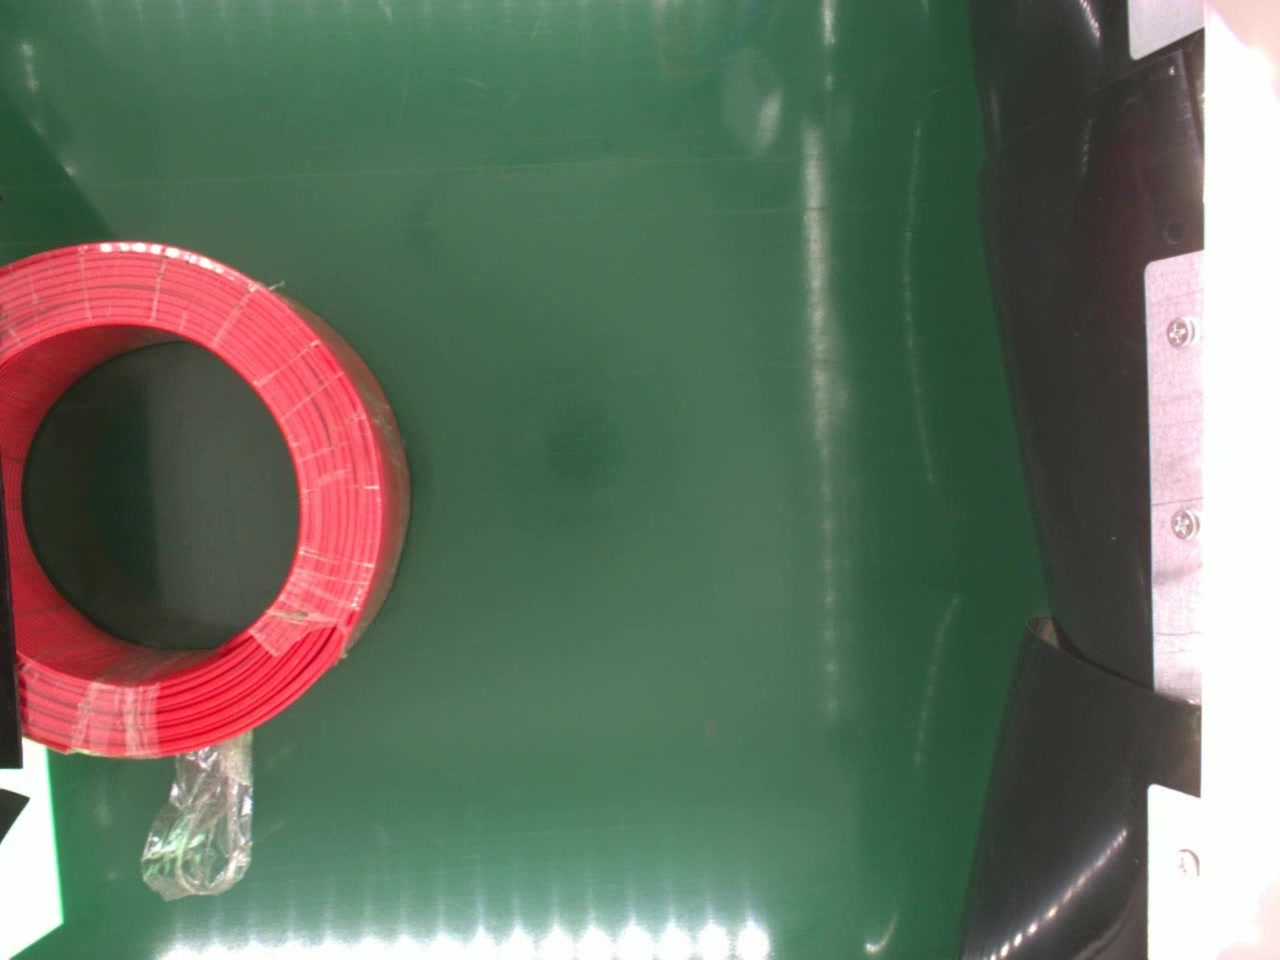red: (0, 236, 409, 757)
